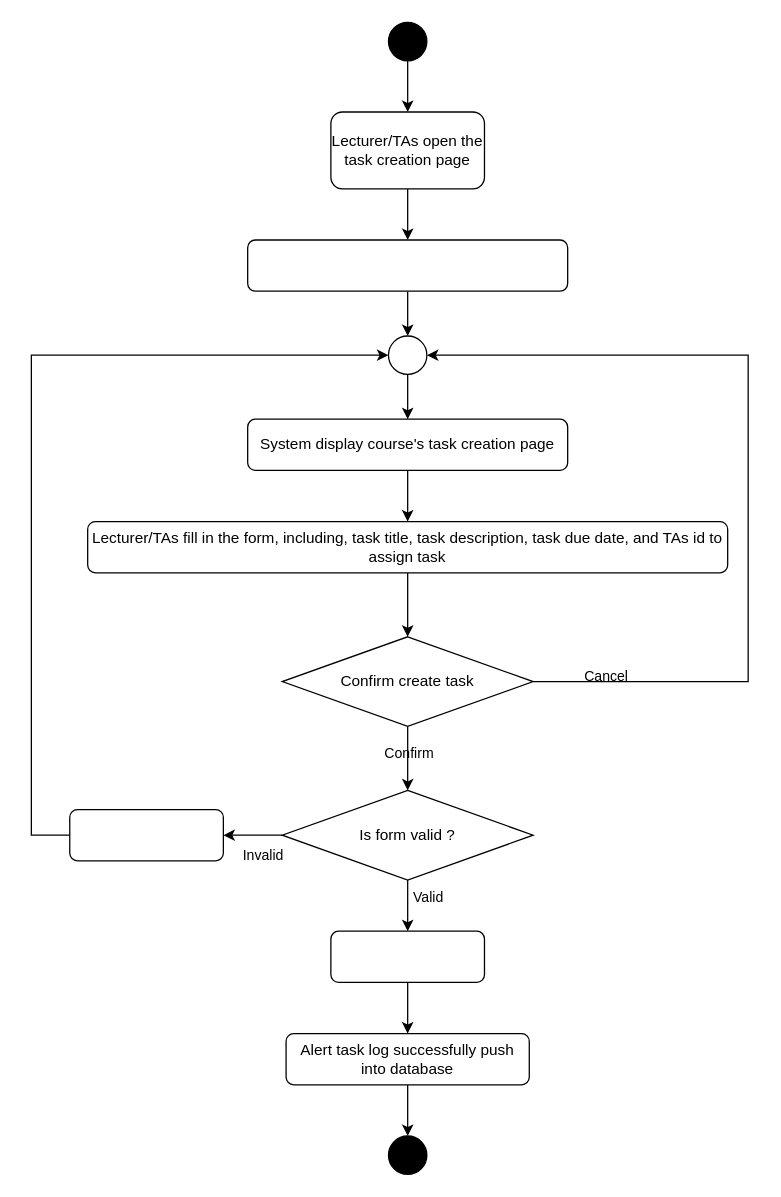
The diagram is 781 pixels wide and 1197 high, and some of its shapes have lost their labels. Here are the shapes that lost their labels. From the top down, the centre of each, then its label:
At point 407,265: "Lecturer/TAs choose the course to create task".
At point 145,834: "Alert error message".
At point 407,956: "Fetch log into tasks database".
